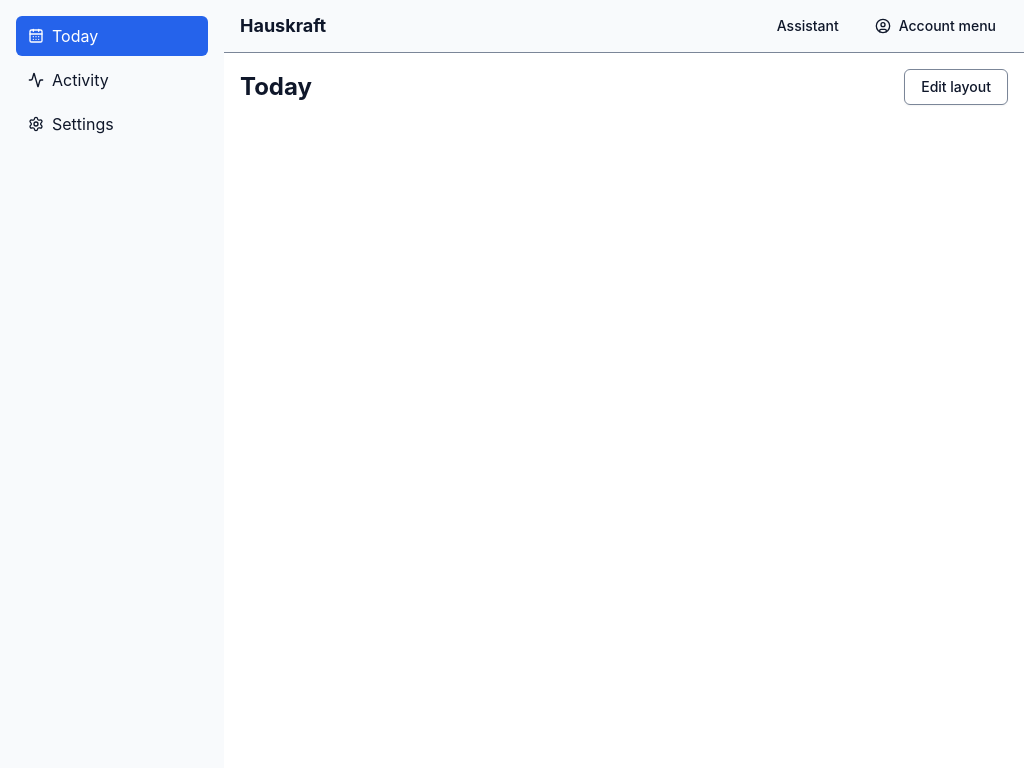
Scenario: assistant panel (M2S-E06) › sends a message and shows the answer and an action card with Undo
Click the button "Assistant": click(808, 26) top-left (761, 8), bottom-right (855, 44)
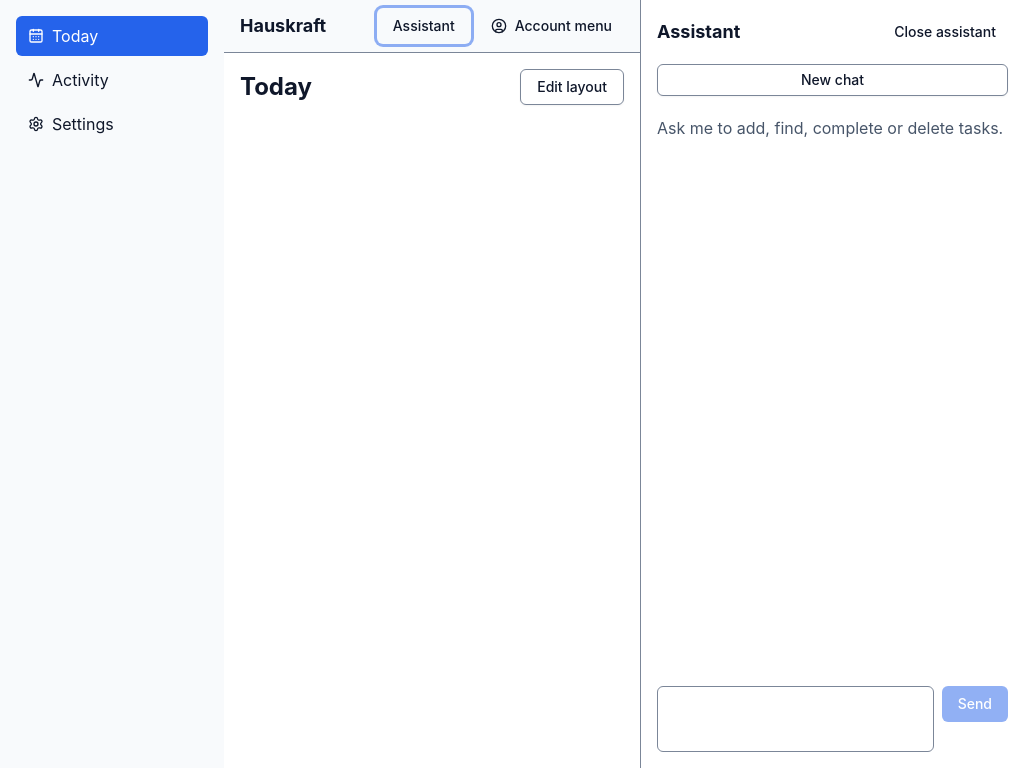
In the text box named "Message the assistant": (795, 719) top-left (657, 686), bottom-right (934, 752), type "Add 'Buy milk'"
Then press Enter
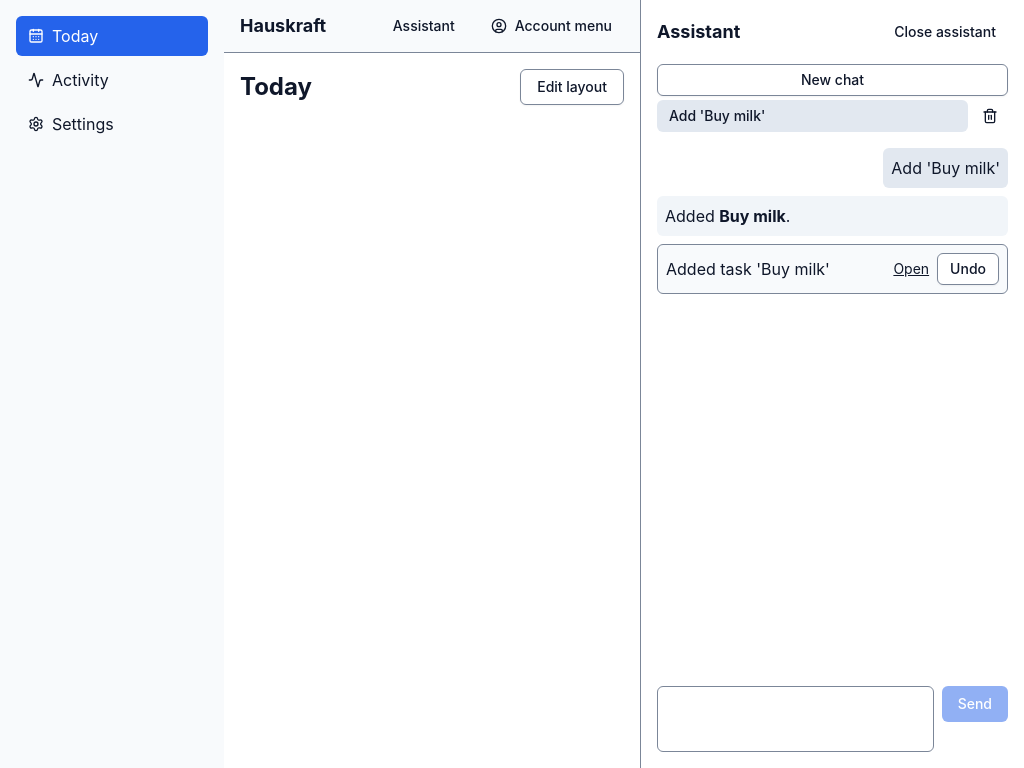
Now the element named "Messages" shows "Add 'Buy milk'", box top-left (891, 158), bottom-right (1000, 178)
Now the text "Buy milk" is shown, box top-left (719, 206), bottom-right (786, 226)
Now the button "Undo" is shown, box top-left (937, 253), bottom-right (999, 285)
